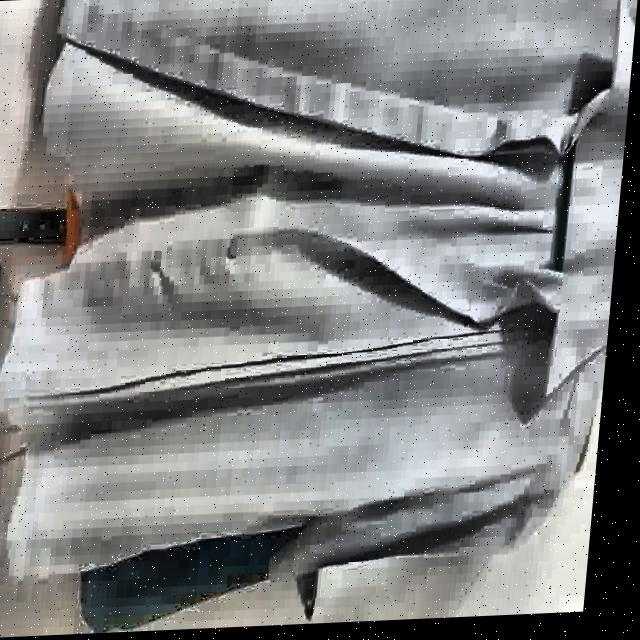clothes: (0, 0, 639, 626)
